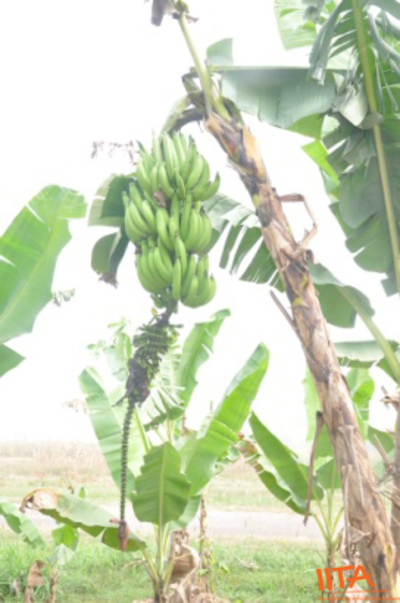bananaHand: (121, 131, 221, 309)
